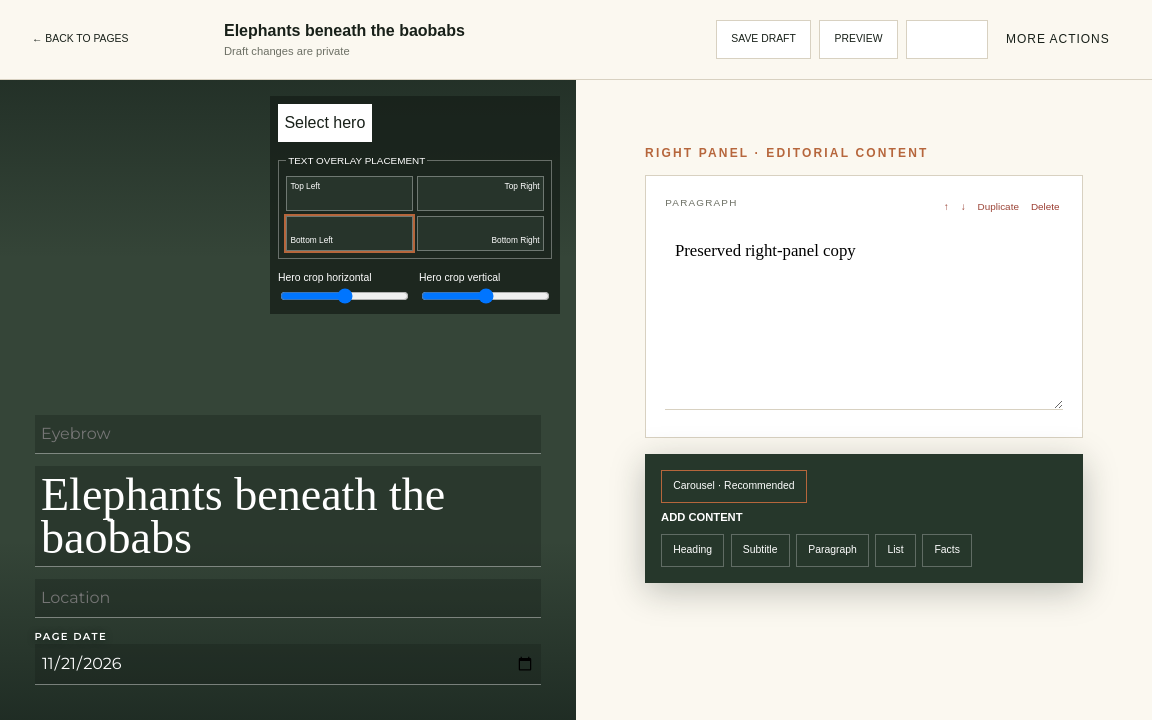
Test: Safari Page date editing › shows one restored page date and marks the draft dirty when it changes
Check: the button "Save Draft" is disabled, box top-left (716, 20), bottom-right (811, 59)
Type "2026-11-22" into the date field labelled "Page Date". click: {"x": 288, "y": 665}
box: top-left (34, 644), bottom-right (541, 686)
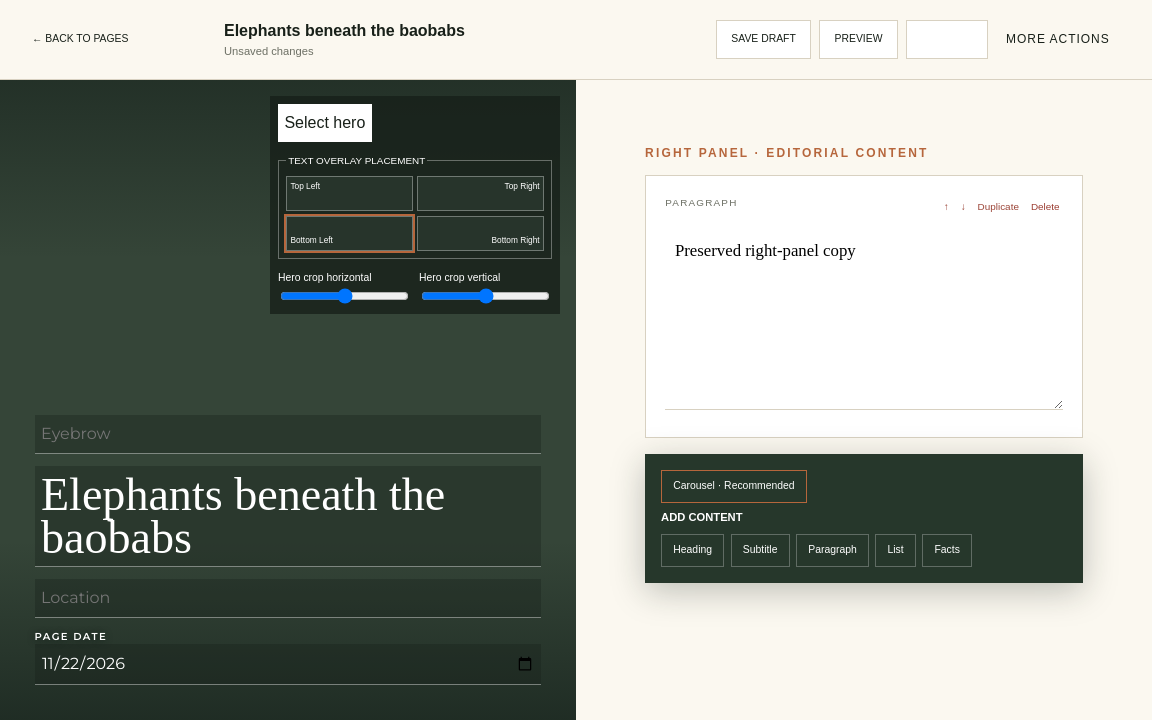
Check: the button "Save Draft" is enabled, box top-left (716, 20), bottom-right (811, 59)
Check: the text "Unsaved changes" is shown, box top-left (224, 45), bottom-right (314, 57)
